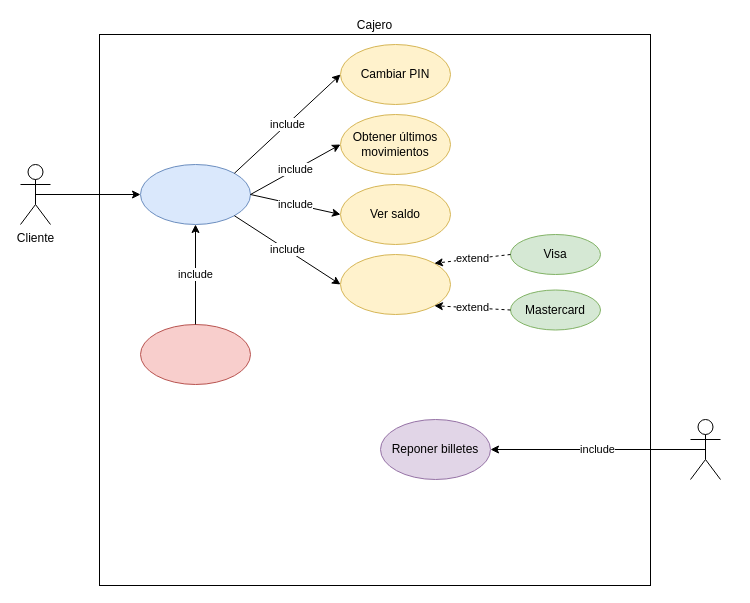
This 750x603 diagram has some shape labels left out. The shapes that lost their labels are listed below. From the top down, each one's centre as x and y in pixels, then its label:
At pixel 195 194: "Realizar operaciones".
At pixel 395 284: "Realizar reintegros".
At pixel 195 354: "Identificarse".
At pixel 705 449: "Empleado".
